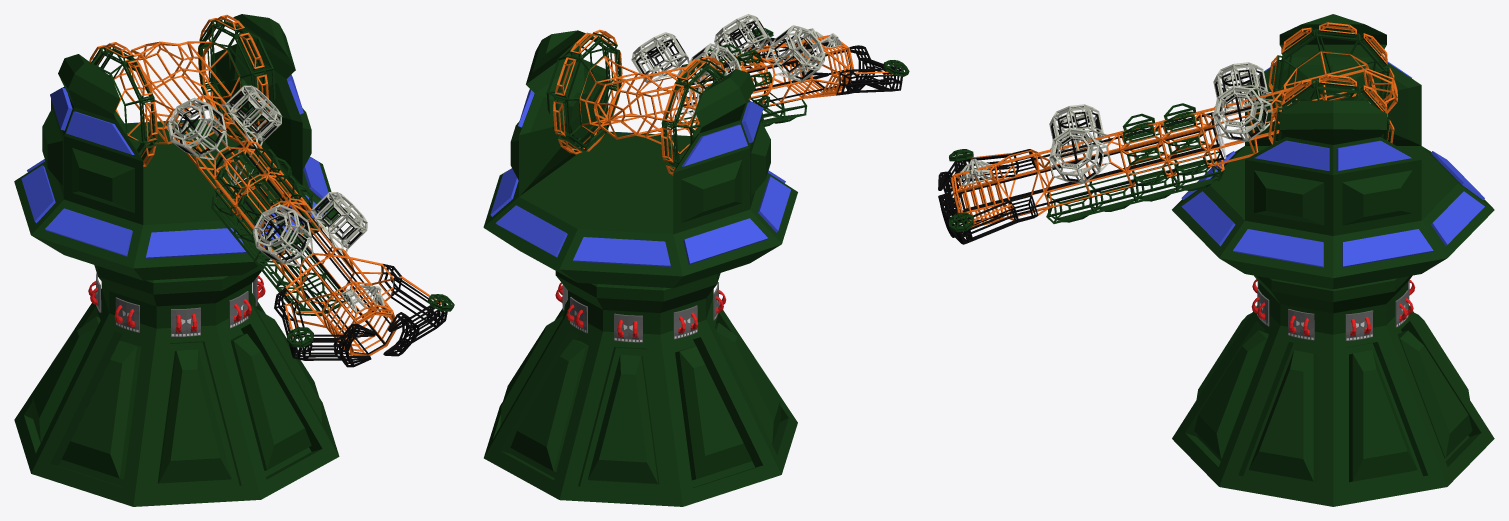
The model's file is Big Cannon const3.fbx.
3 views of the same model, side by side, from view 1: azimuth 30°, elevation 25°; view 2: azimuth 150°, elevation 25°; view 3: azimuth 270°, elevation 25° (orthographic). The views are drawn at different scales.
Visible parts, largest first — view 1: gran canon construct 3, Cube.014, grand canon.002, Cube.013; view 2: gran canon construct 3, Cube.014, grand canon.002, Cube.013; view 3: gran canon construct 3, Cube.014, grand canon.002, Cube.013.
Boxes of the visible parts, left/top/right/bottom form: gran canon construct 3: left=14, top=263, right=339, bottom=506; Cube.014: left=14, top=14, right=338, bottom=280; grand canon.002: left=89, top=14, right=454, bottom=367; Cube.013: left=88, top=273, right=265, bottom=336; gran canon construct 3: left=484, top=271, right=797, bottom=506; Cube.014: left=483, top=30, right=797, bottom=288; grand canon.002: left=546, top=14, right=909, bottom=175; Cube.013: left=555, top=282, right=726, bottom=342; gran canon construct 3: left=1172, top=275, right=1494, bottom=506; Cube.014: left=1172, top=14, right=1494, bottom=289; grand canon.002: left=938, top=22, right=1397, bottom=244; Cube.013: left=1251, top=279, right=1415, bottom=340.
Size of the model in its own units: 1098 by 1457 by 1891.
